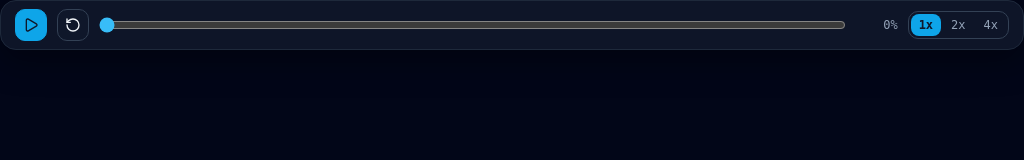
Test case: ReplayControls › has Spanish accessible names
Check: the element named "Controles de repetición" is shown, box [0,0,1023,50]
Check: the button named "Volver al inicio" is shown, box [57,9,89,41]
Click the button named "Reproducir".
click(31, 25)  # box [15,9,47,41]
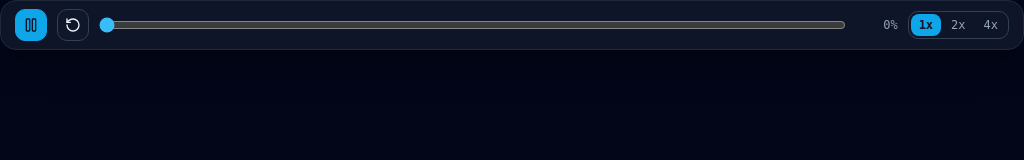
Check: the button named "Pausar" is shown, box [15,9,47,41]
